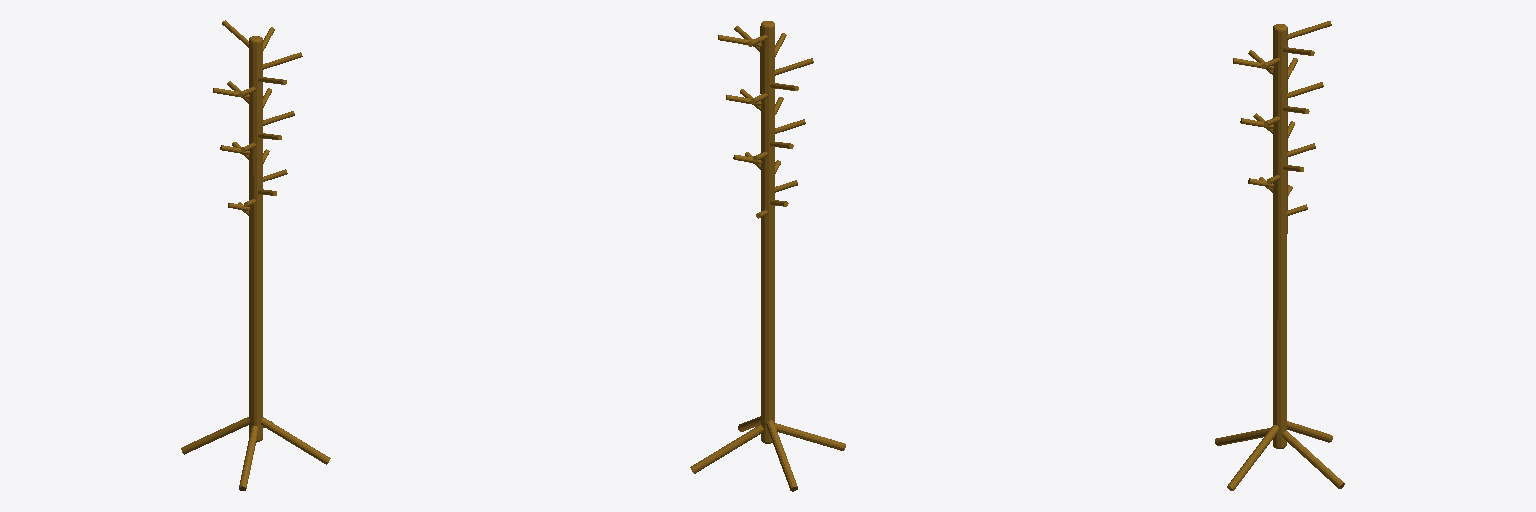
URDF robot description (hanger):
<?xml version="0.0" ?>
<robot name="hanger">

  <link name="base_link">
    <inertial>
      <origin rpy="0 0 0" xyz="0 0 0"/>
       <mass value=".0"/>
       <inertia ixx="0" ixy="0" ixz="0" iyy="0" iyz="0" izz="0"/>
    </inertial>
  </link>

  <link name="hanger">
    <inertial>
      <origin rpy="0 0 0" xyz="0 0 0"/>
       <mass value=".0"/>
       <inertia ixx="0" ixy="0" ixz="0" iyy="0" iyz="0" izz="0"/>
    </inertial>
    <visual>
      <origin rpy="1.57 0 0" xyz="0 0 0"/>
      <geometry>
        <mesh filename="package://uwds3/models/cad_models/obj/AlvarAalto106.obj" scale="0.001 0.001 0.001"/>
      </geometry>
       <material name="wood">
        <color rgba="0.572 0.427 0.152 1"/>
      </material>
    </visual>
  </link>

  <joint name="base_to_hanger" type="revolute">
    <parent link="base_link"/>
    <child link="hanger"/>
    <axis xyz="0 0 1"/>
    <limit effort="1000.0" lower="0.0" upper="1.57" velocity="0.5"/>
    <origin rpy="0 0 0" xyz="0 0 0"/>
  </joint>



</robot>

--- What the picture shows (computed from the rendered views, not written in the file) ---
The picture shows the robot from 3 angles, left to right: view 1: azimuth 30°, elevation 25°; view 2: azimuth 150°, elevation 25°; view 3: azimuth 270°, elevation 25°; orthographic projection.
Robot: hanger — 2 links, 1 joints (1 revolute); root link base_link; default pose: all joints at 0.
Visible links, largest first — view 1: hanger; view 2: hanger; view 3: hanger.
Boxes of the visible links, bbox=[...] form: hanger: bbox=[181, 20, 330, 490]; hanger: bbox=[690, 21, 845, 491]; hanger: bbox=[1215, 21, 1344, 490].
Bounding box of the posed robot: 0.45 × 0.469 × 1.76 m (x, y, z).
Meshes: 1 distinct files referenced, 1 mesh visuals loaded (1 OBJ).
